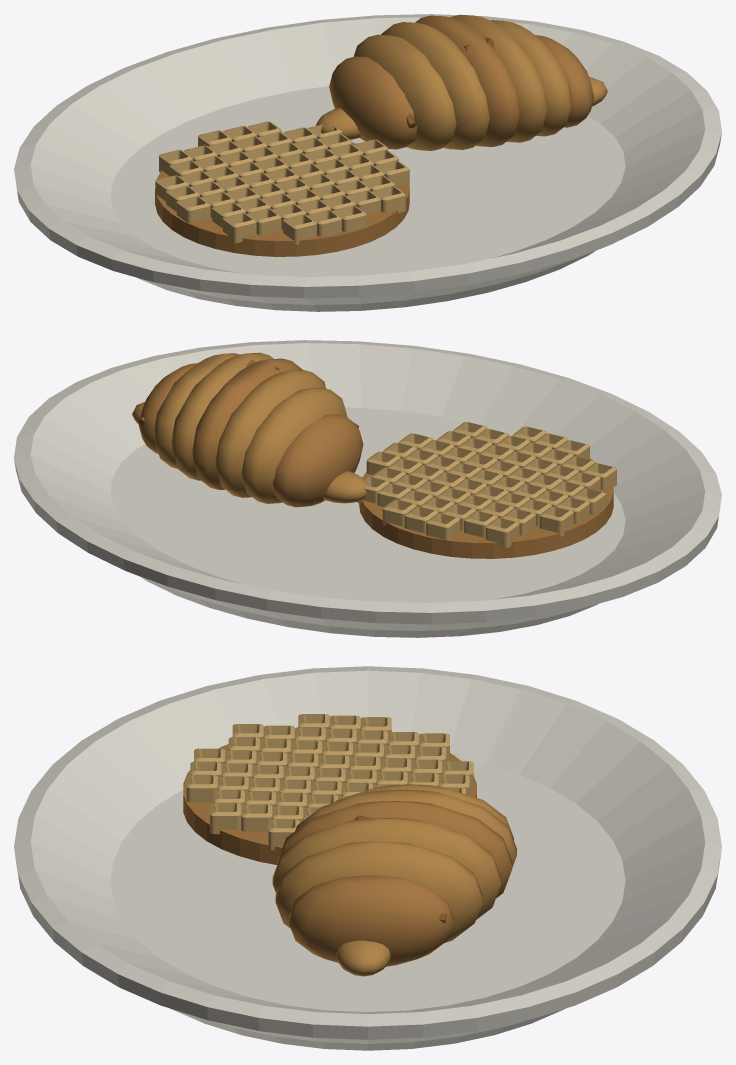
File: croffle.glb
The picture shows the model from 3 angles, top to bottom: view 1: azimuth 30°, elevation 25°; view 2: azimuth 150°, elevation 25°; view 3: azimuth 270°, elevation 25°; orthographic projection. The views are drawn at different scales.
Visible parts, largest first — view 1: croffle; view 2: croffle; view 3: croffle.
Boxes of the visible parts, bbox=[...] form: croffle: bbox=[14, 14, 721, 311]; croffle: bbox=[14, 340, 721, 637]; croffle: bbox=[14, 666, 721, 1050].
Size of the model in its own units: 0.382 by 0.082 by 0.3171.
